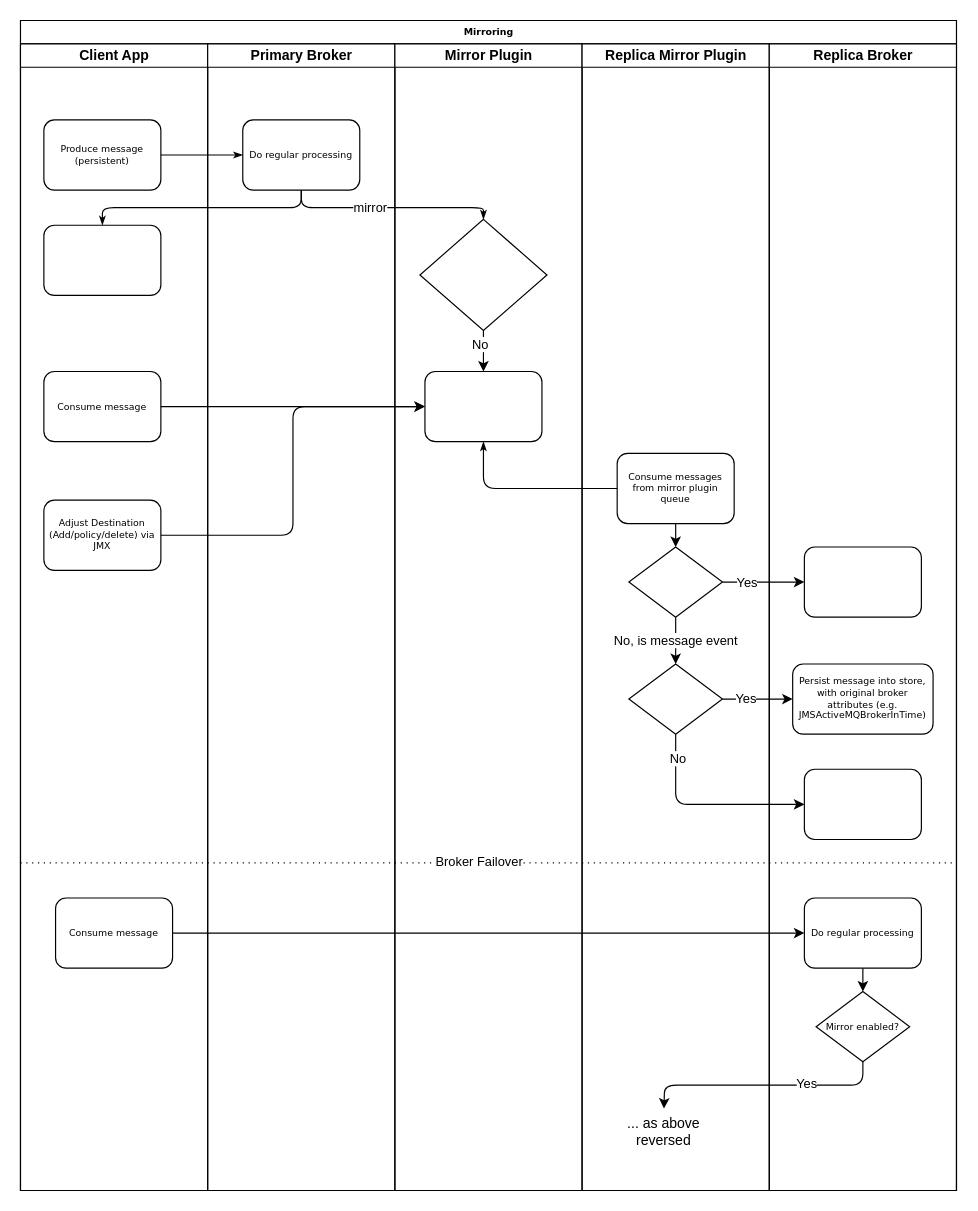
The diagram is 978 pixels wide and 1211 high, and some of its shapes have lost their labels. The centre of each missing label's shape, as x and y in pixels:
"Adjust message references (e.g. decrement for ACK)" goes at [862,803].
"Create Destination Update Destination (policy) Delete destination" goes at [862,581].
"is destination CRUD?" goes at [675,581].
"is message for advisory topic or our plugin queue?" goes at [483,274].
"is new message" goes at [675,698].
"receive Ack" goes at [102,259].
"Serialize and enqueue event into mirror plugin queue" goes at [483,406].
